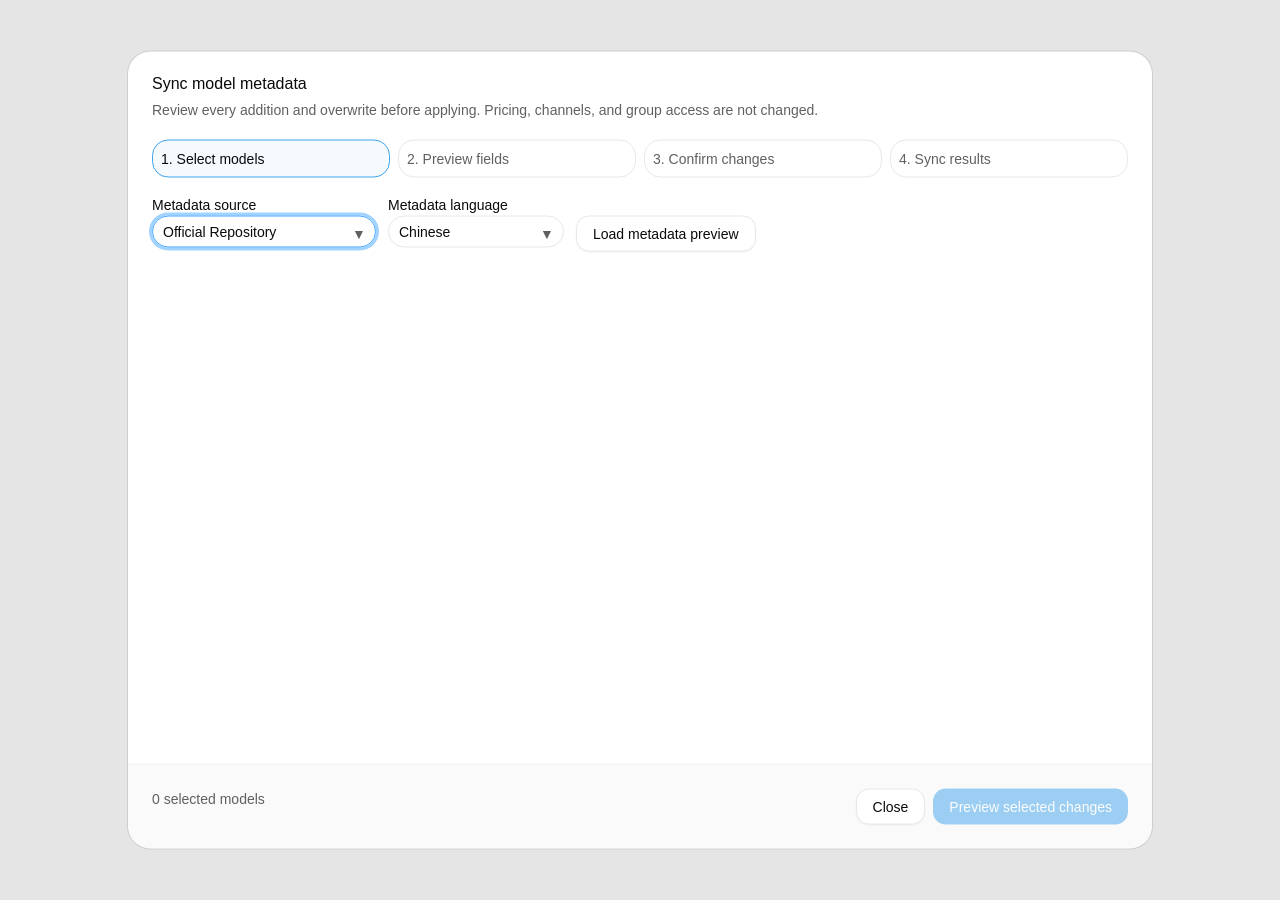
Scenario: metadata sync preview › loads the packaged models.dev source only after explicit selection
This screenshot has width=1280, height=900.
Click the dropdown named "Metadata source".
click(264, 232)  # box [152,216,376,248]
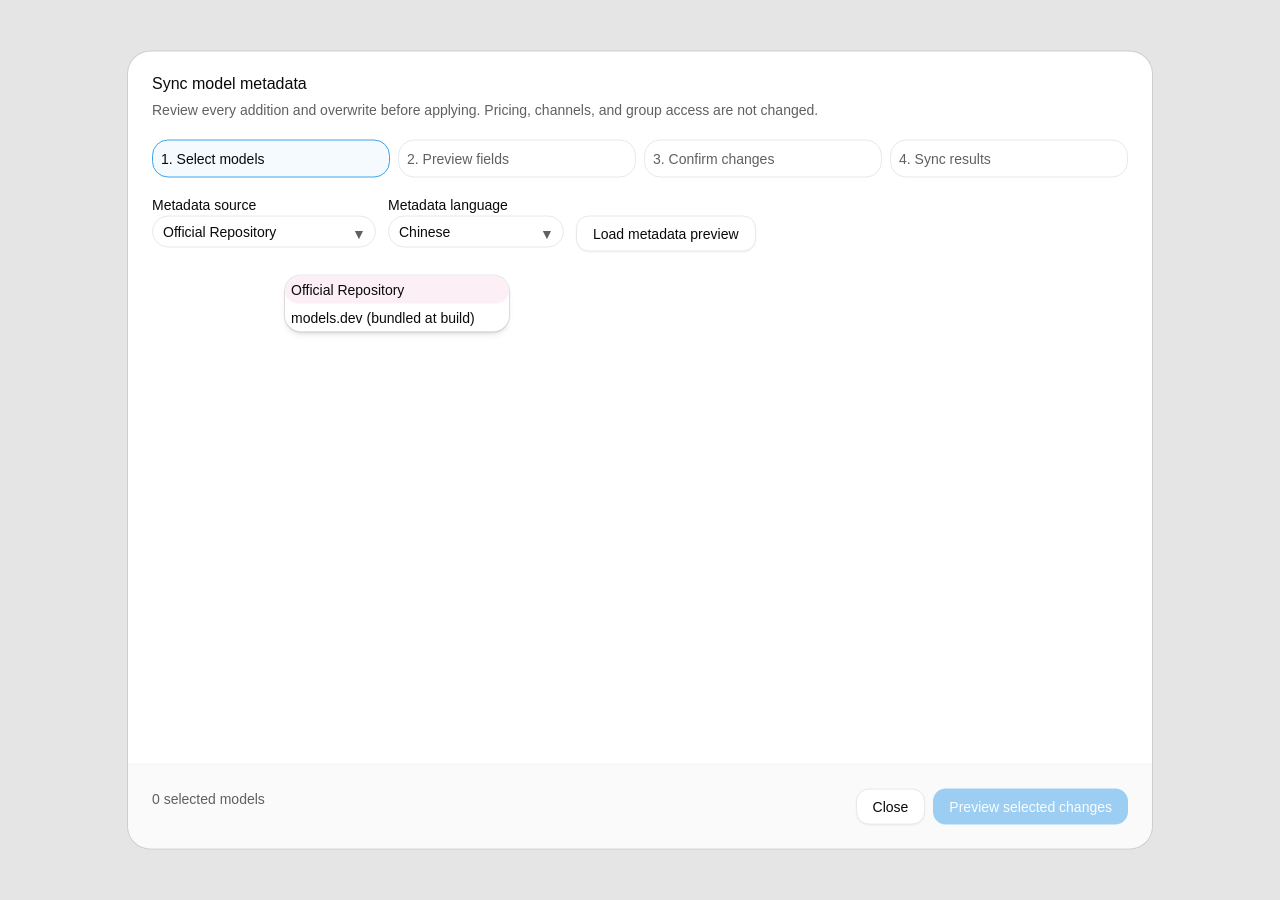
Click the option "models.dev (bundled at build)".
click(383, 317)  # box [291,309,475,325]
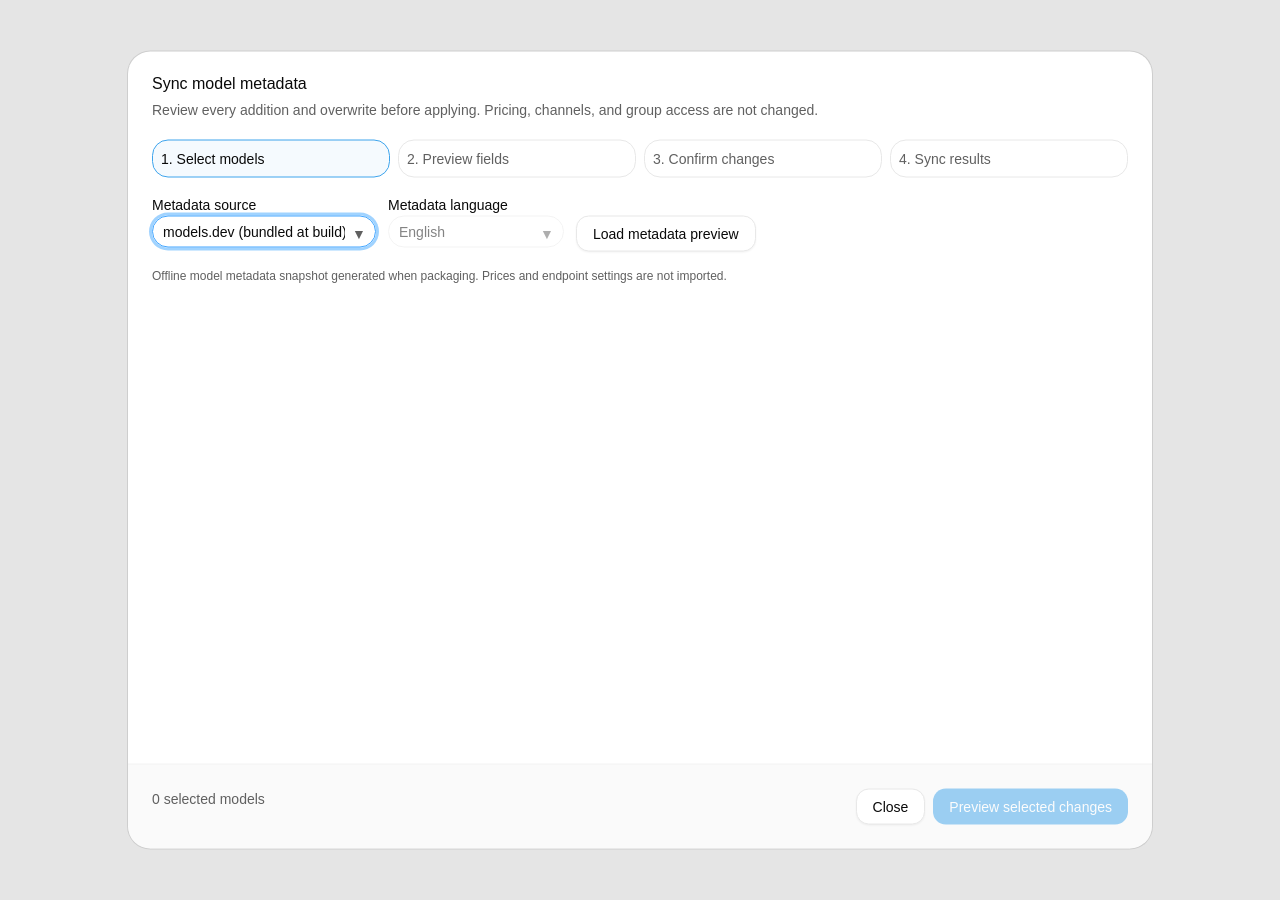
Expected: the text "Prices and endpoint settings are not imported" is shown, [482,268,727,282]
Click the button "Load metadata preview".
click(666, 234)  # box [576,216,756,252]
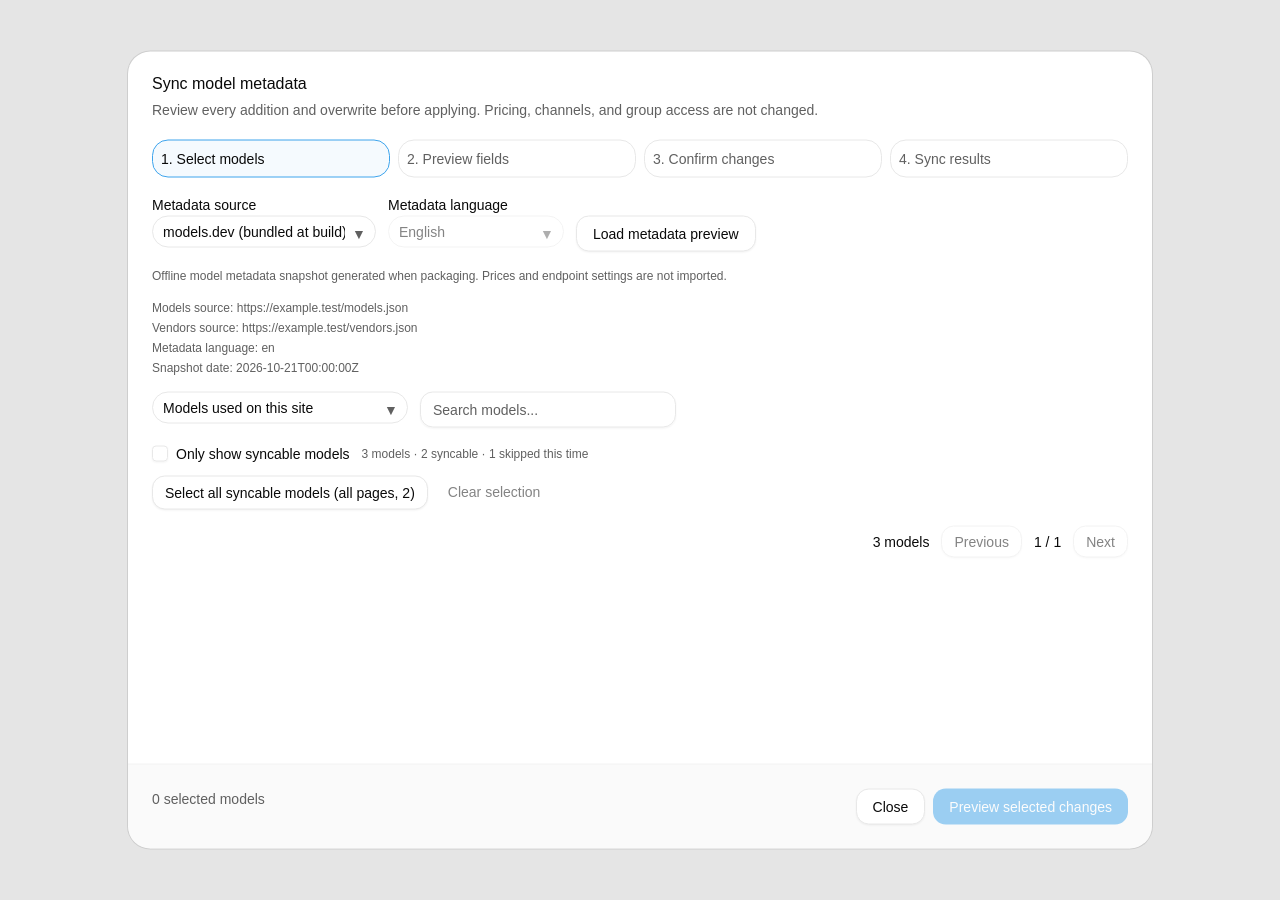
Expected: the text "2026-10-21T00:00:00Z" is shown, [236,360,359,374]
